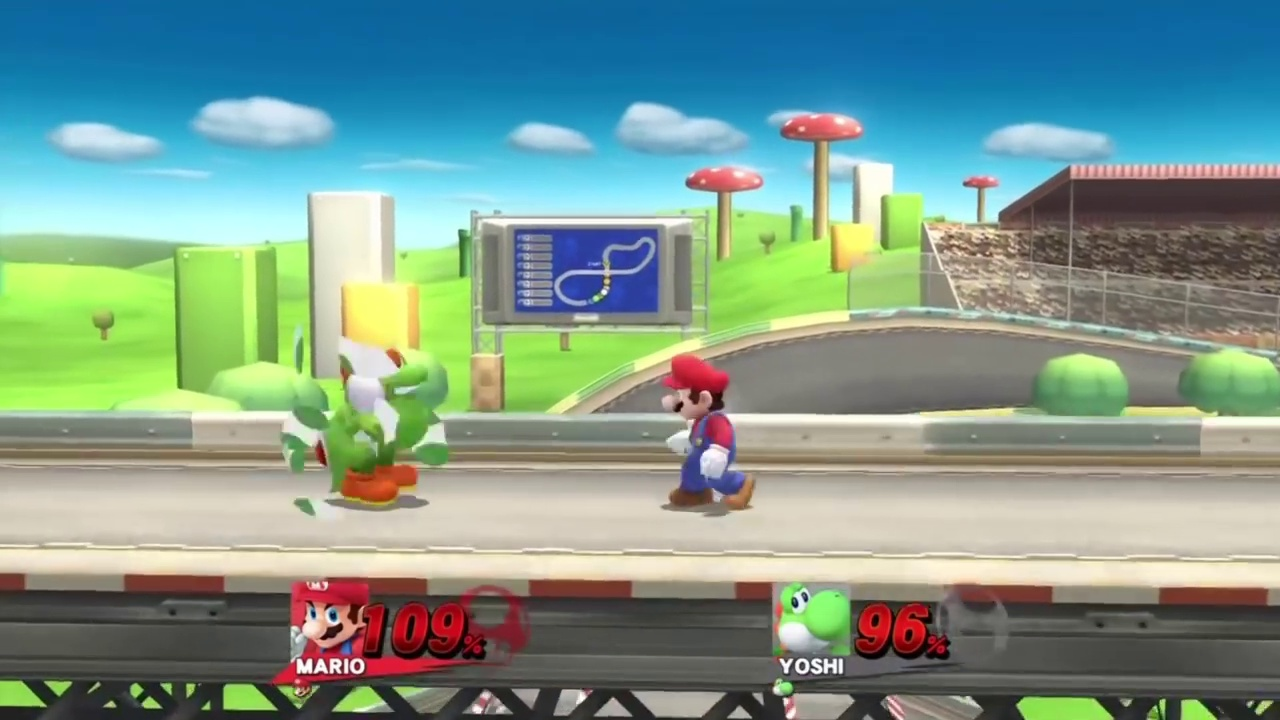Mario: (660, 356, 754, 510)
